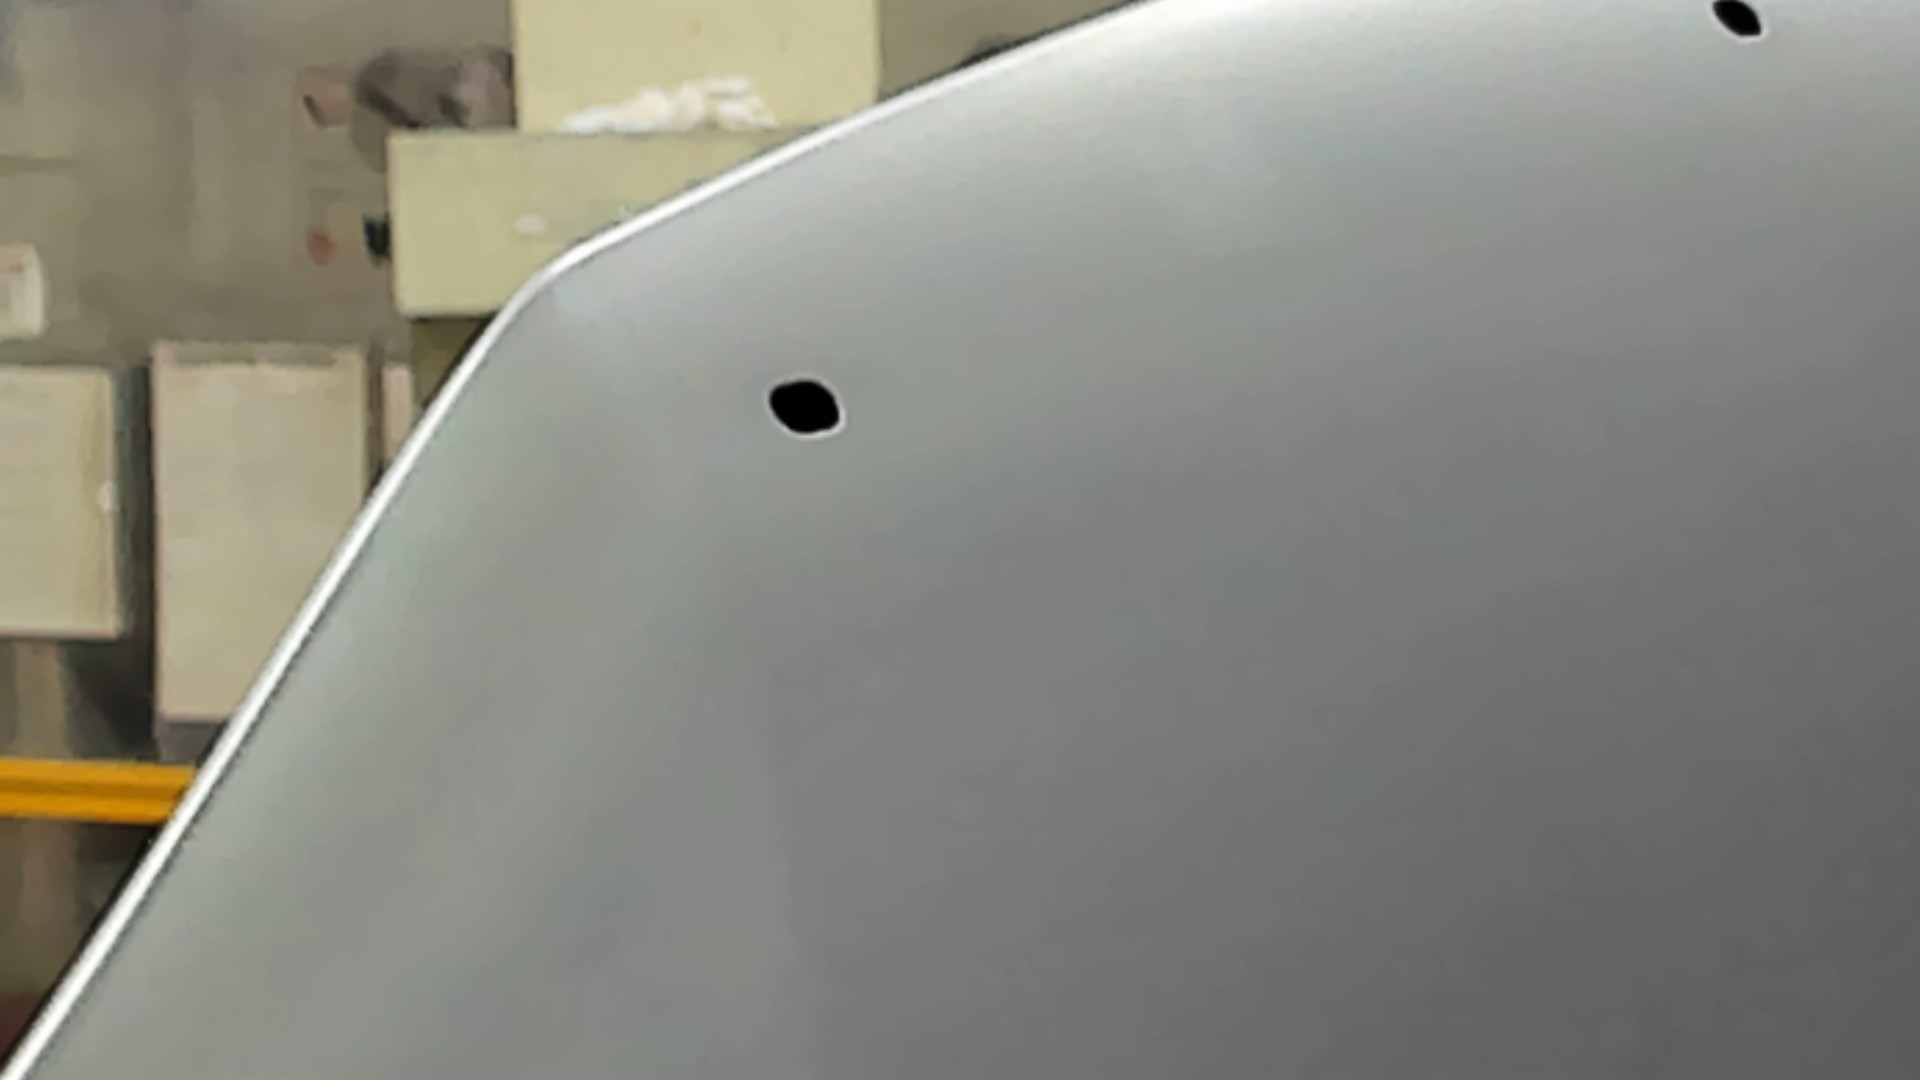amorfo: (761, 371, 847, 444), (1702, 1, 1774, 41)
capo: (942, 116, 1920, 1080)
